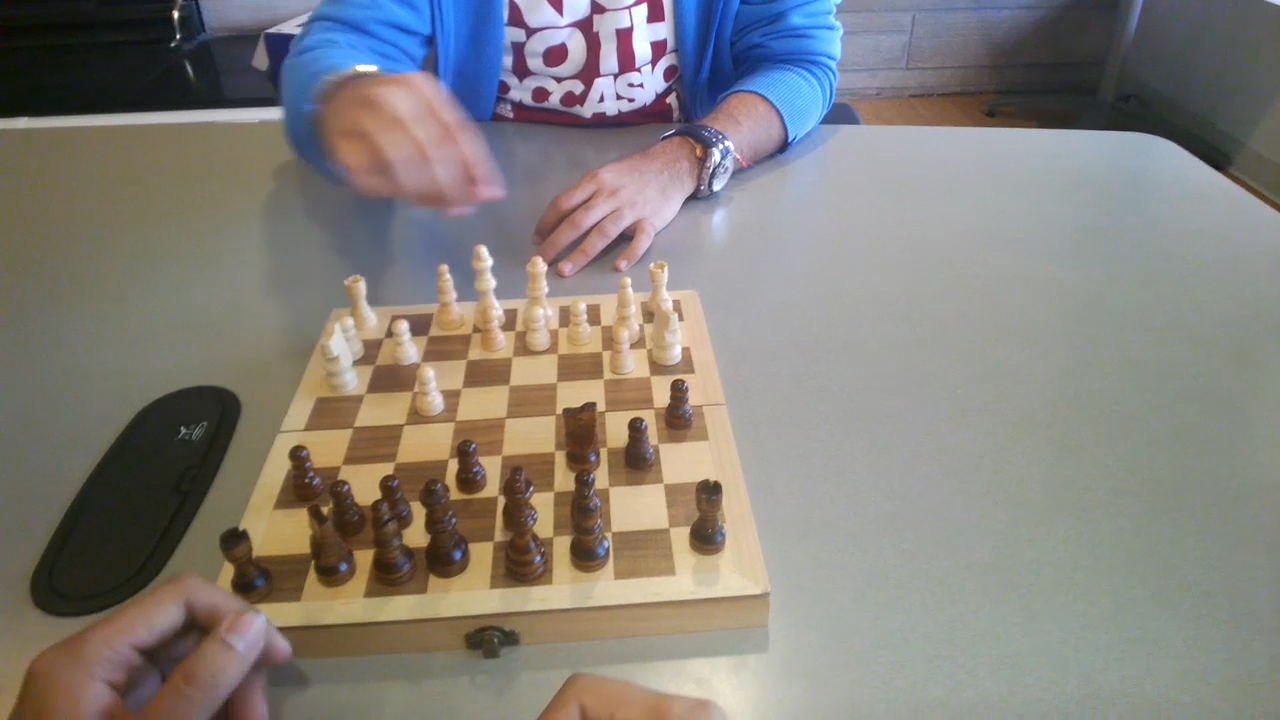hand: (14, 575, 285, 713), (324, 79, 505, 204), (533, 147, 692, 273), (542, 671, 720, 717)
